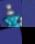helmet: (22, 27, 35, 44)
recallP: (0, 0, 22, 27)
